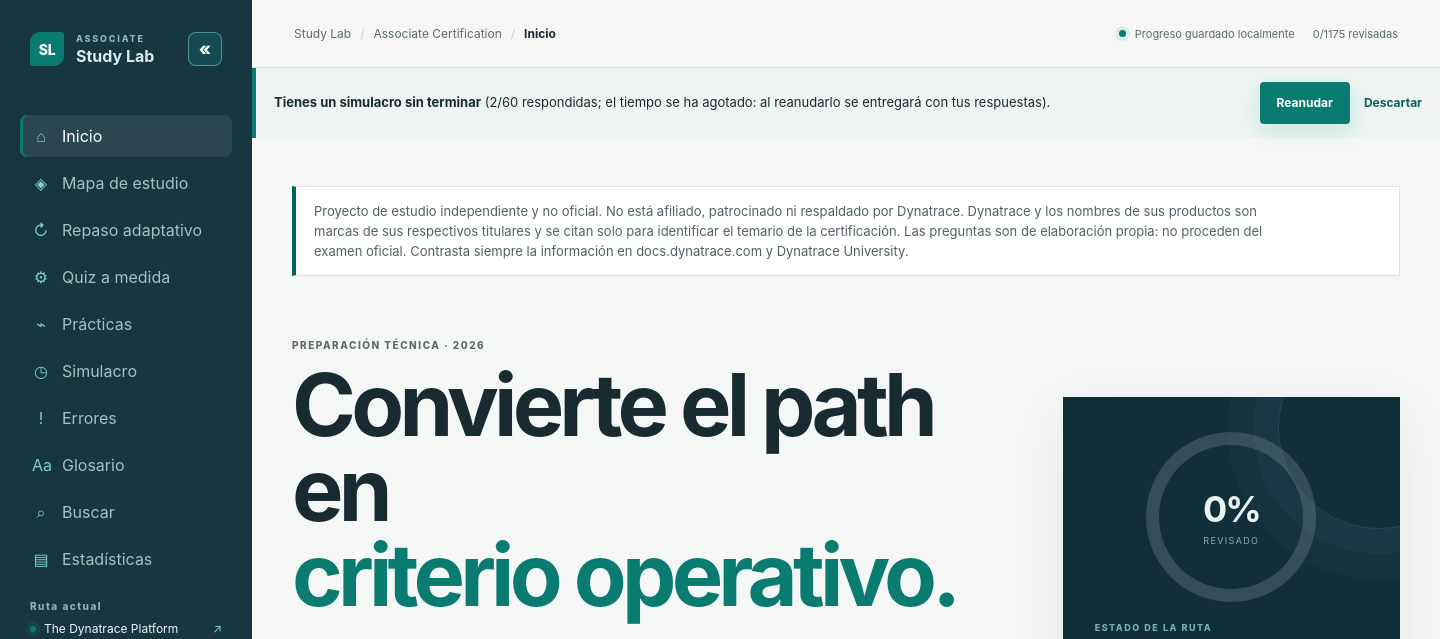
Test case: simulacro robusto › un deadline vencido al reanudar entrega el simulacro con las respuestas guardadas
The image size is (1440, 639).
Expected: the element "simulacro sin terminar" shows "el tiempo se ha agotado", [605,94,1042,110]
What coordinates should you click on to do the following:
click the button "Reanudar"
I would click on:
 (1305, 103)
Its box is [1260,82,1350,124].
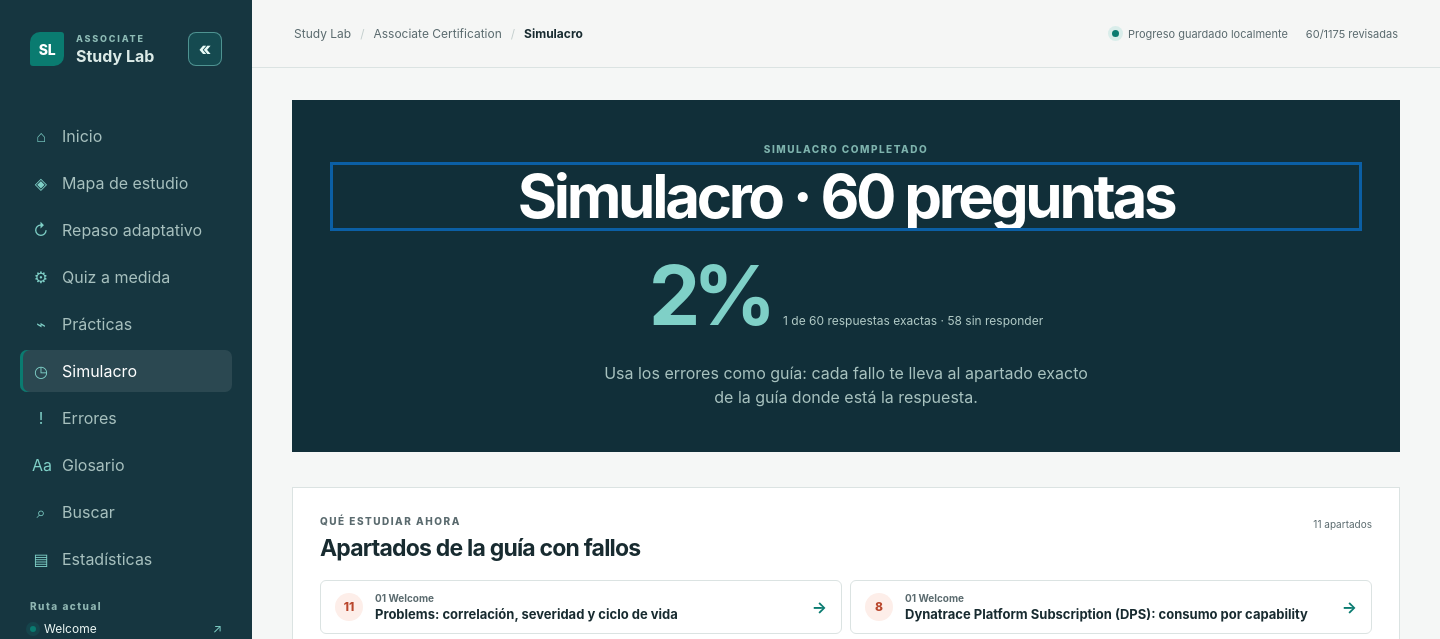
Expected: the text "SIMULACRO COMPLETADO" is shown, [764,143,928,155]
Expected: the text "1 de 60 respuestas exactas · 58 sin responder" is shown, [783,313,1043,328]
